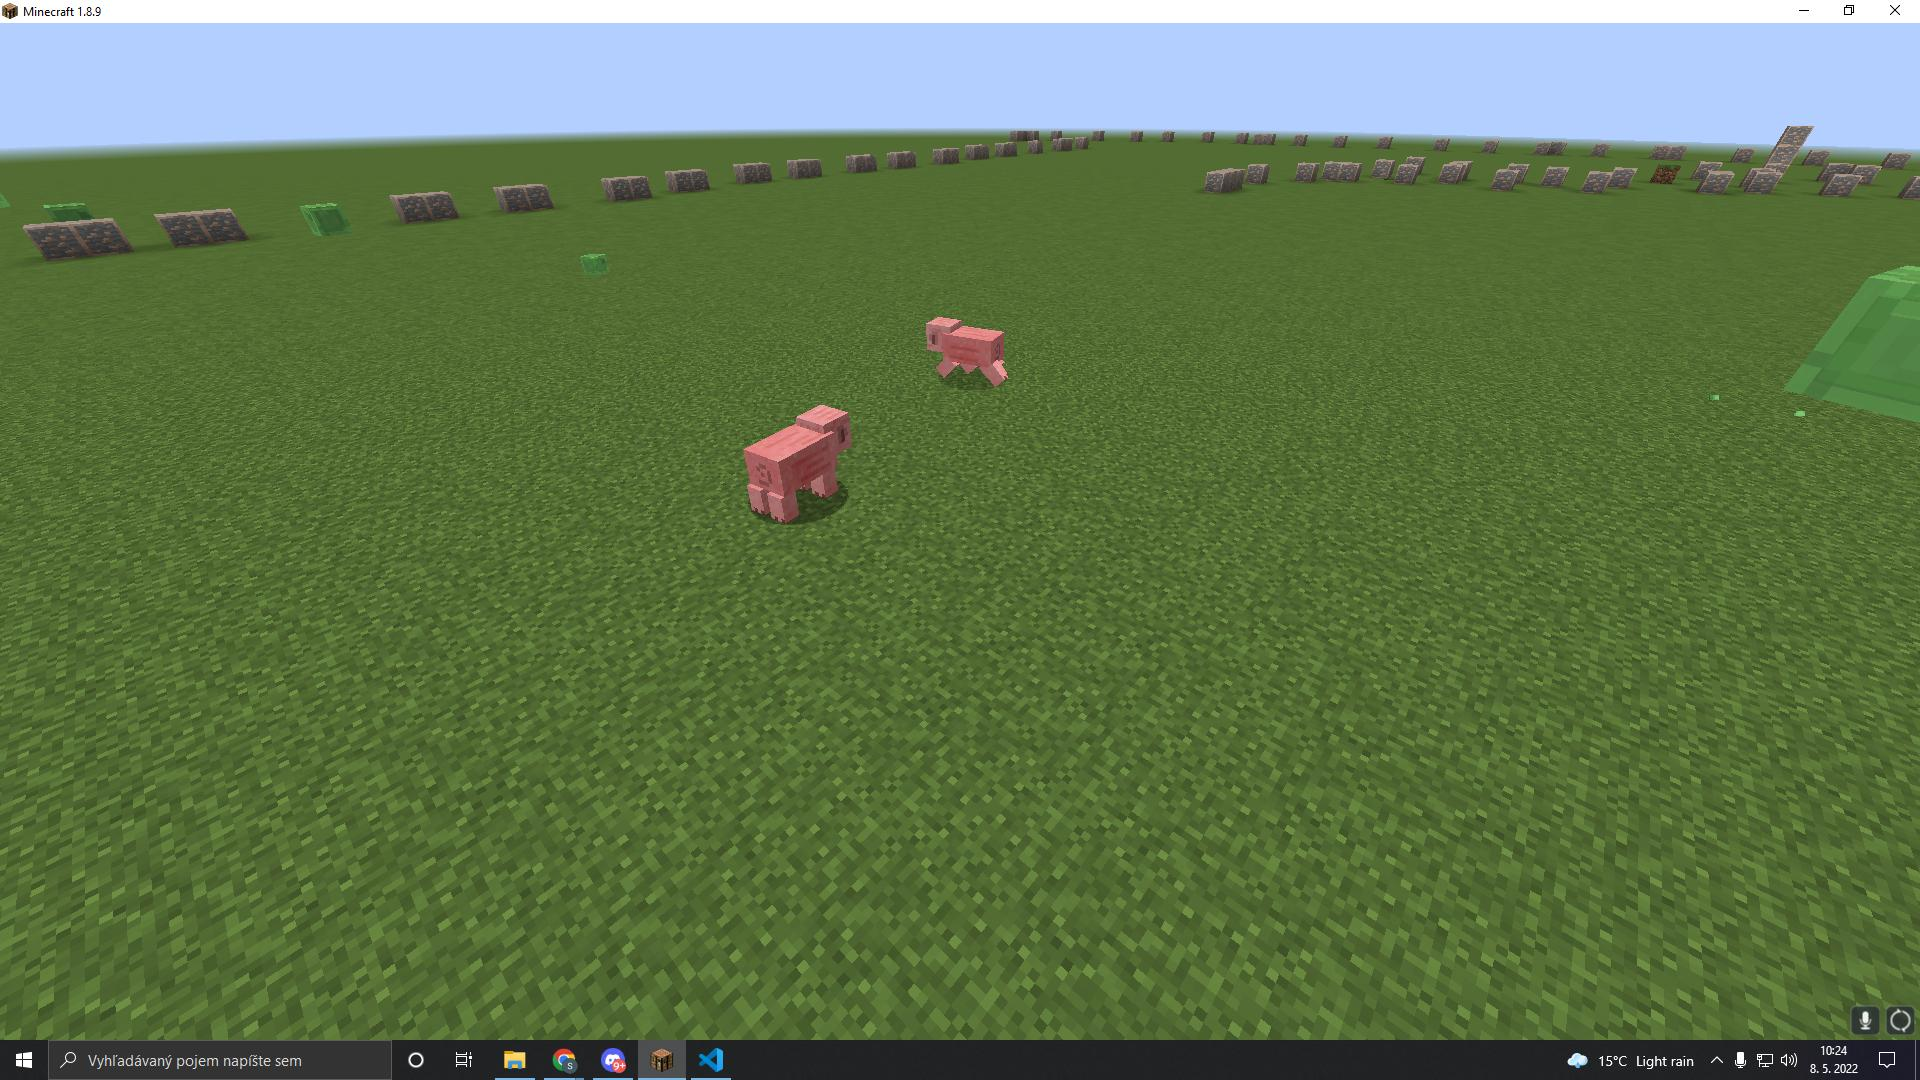pig: (735, 398, 862, 530), (911, 307, 1029, 400)
